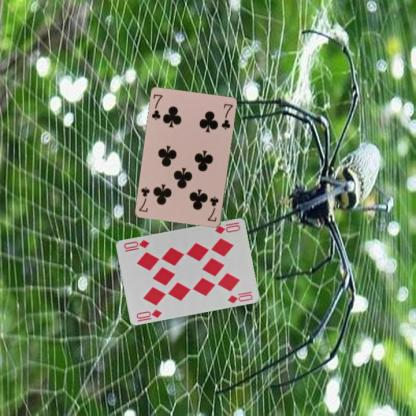10d: (212, 219, 242, 235), (134, 306, 163, 320)
7c: (205, 194, 220, 223), (149, 92, 164, 121)
